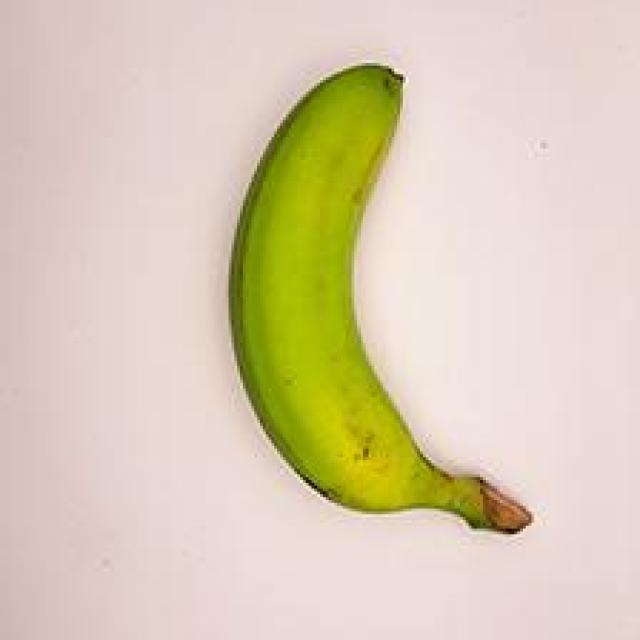Unripe: (176, 24, 552, 566)
